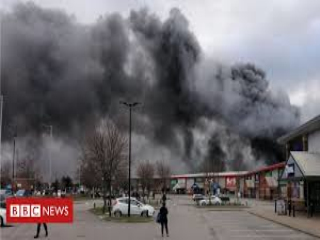smoke: (145, 14, 291, 151), (9, 15, 141, 162)
